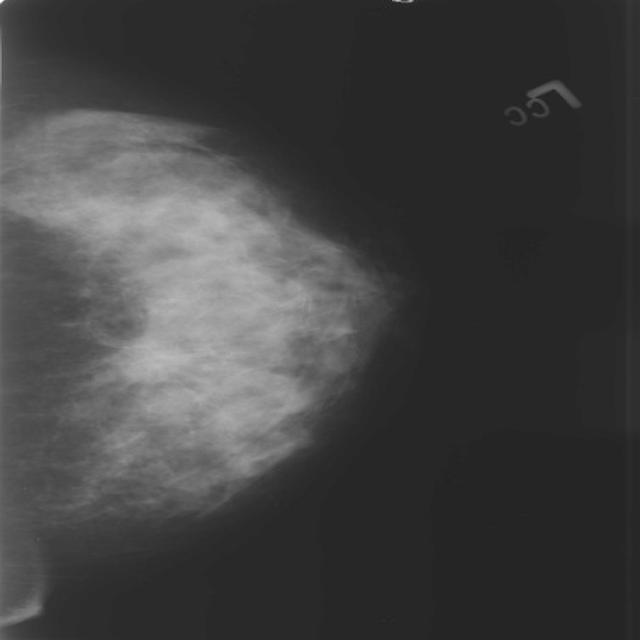tumour: (99, 332, 190, 384)
